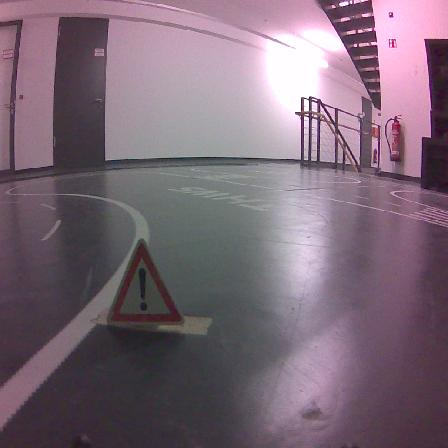ATTENTION: (107, 240, 183, 324)
